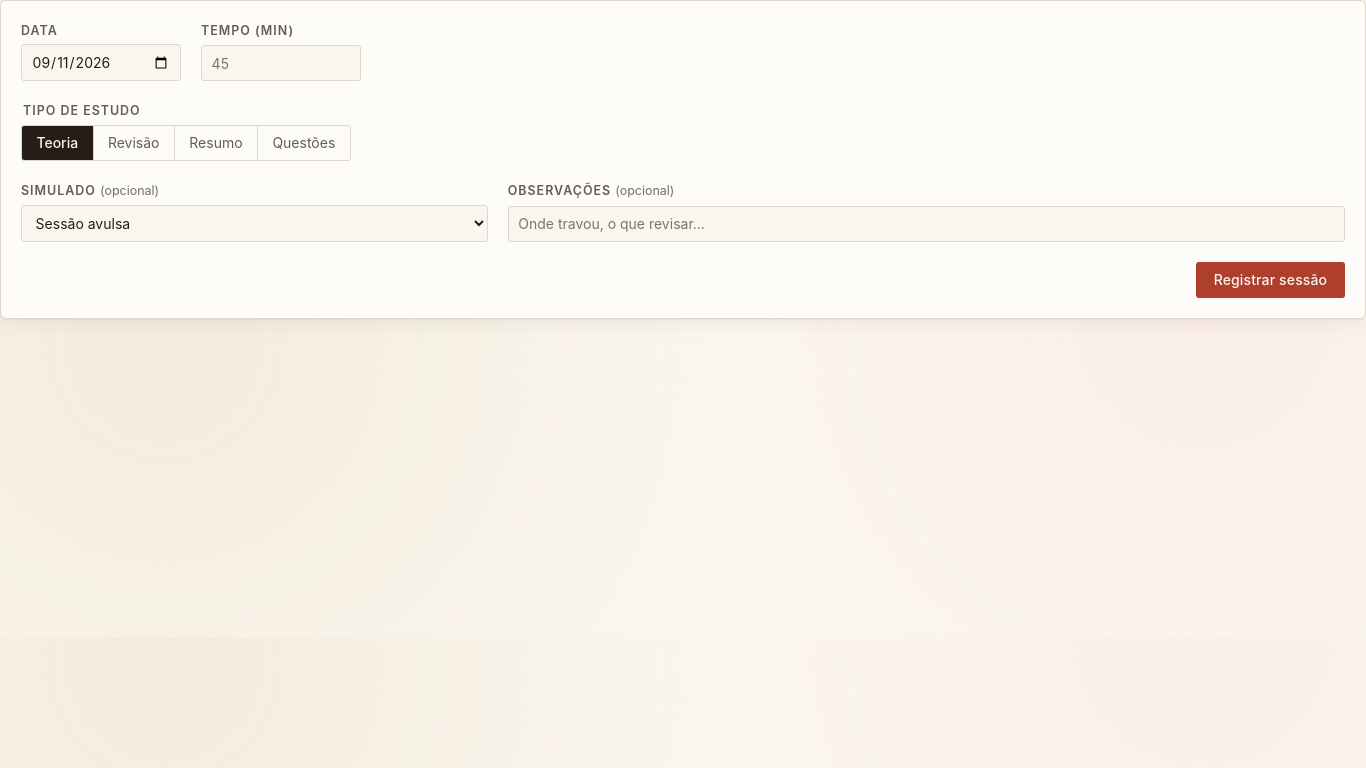
Test: FormularioSessao — validacao › acusa tempo e contadores na mesma tentativa
Click the radio button labelled "Questões". click: (304, 143)
box: [272,134,335,151]
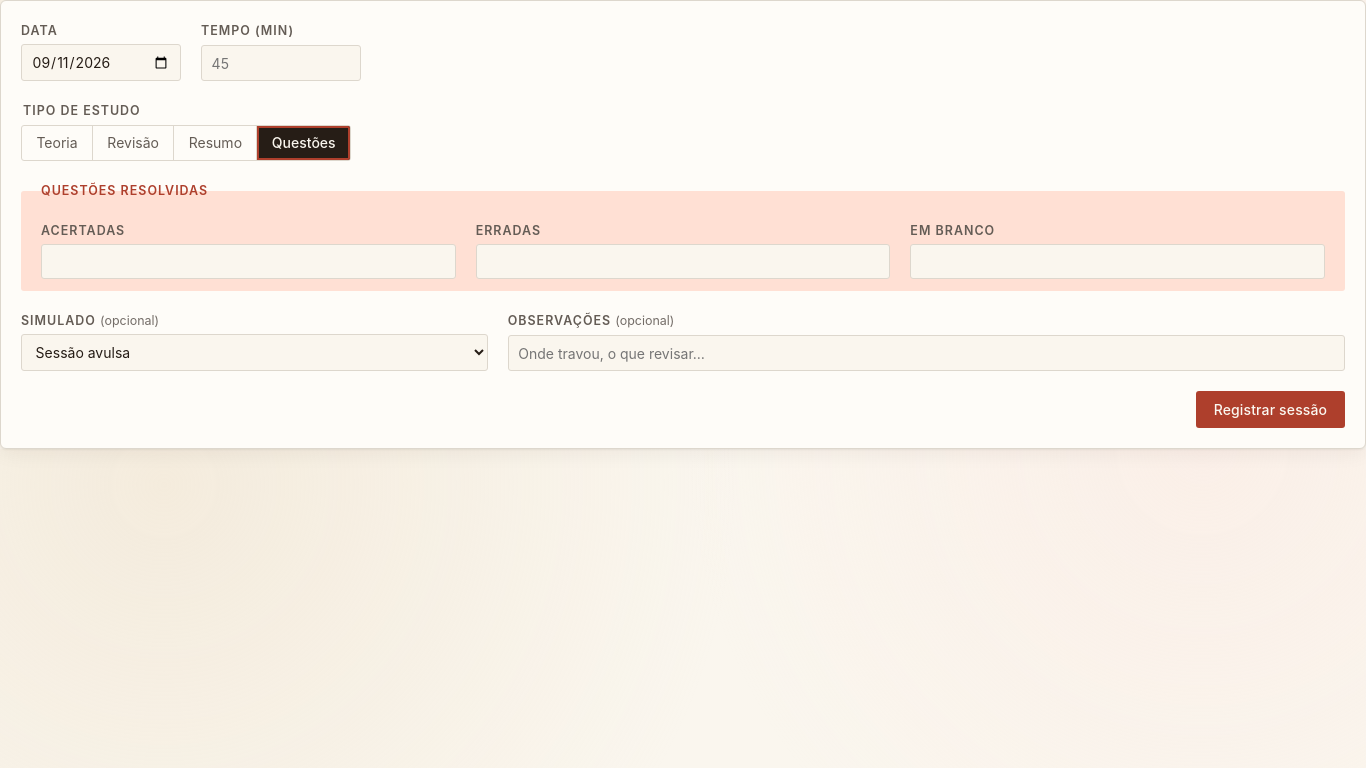
Click the button "Registrar sessão". click: (1270, 410)
box: [1196,391,1345,428]
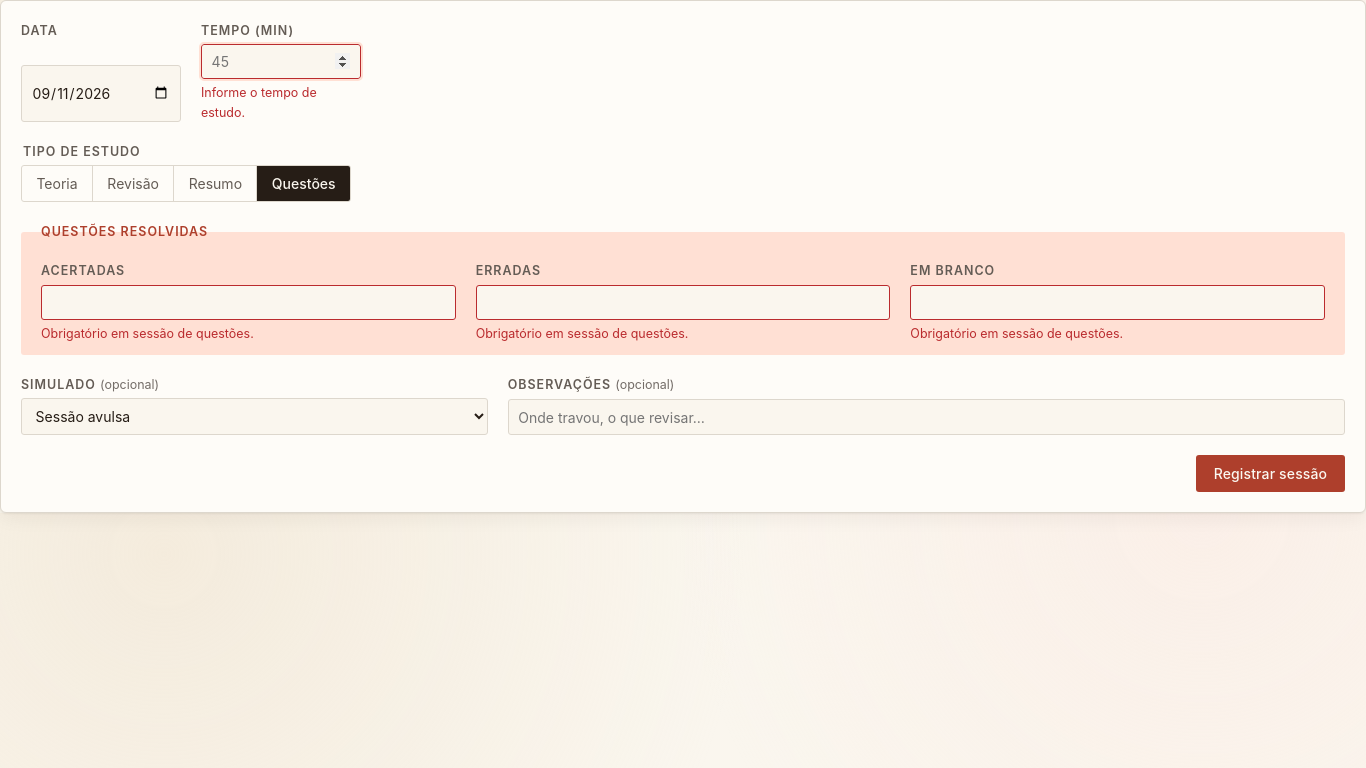
Expected: the text "Informe o tempo de estudo." is shown, [201,85,317,120]
Expected: the text "Obrigatório em sessão de questões." is shown 3 times, [41,326,254,340]; [476,326,688,340]; [910,326,1123,340]
